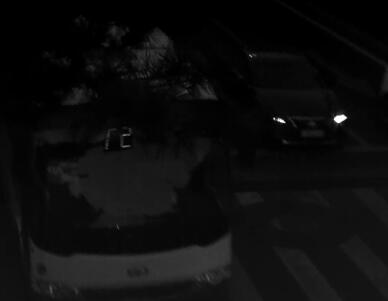bus: (7, 13, 235, 297)
car: (239, 49, 347, 144)
